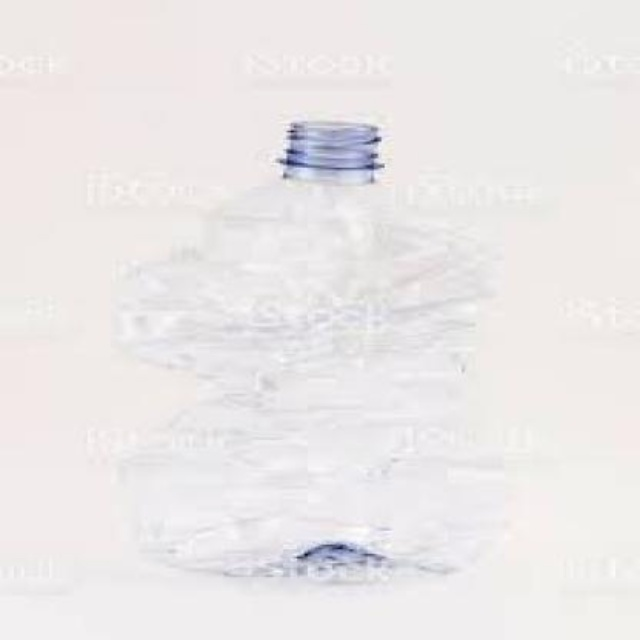trash: (114, 122, 497, 577), (278, 120, 383, 183)
